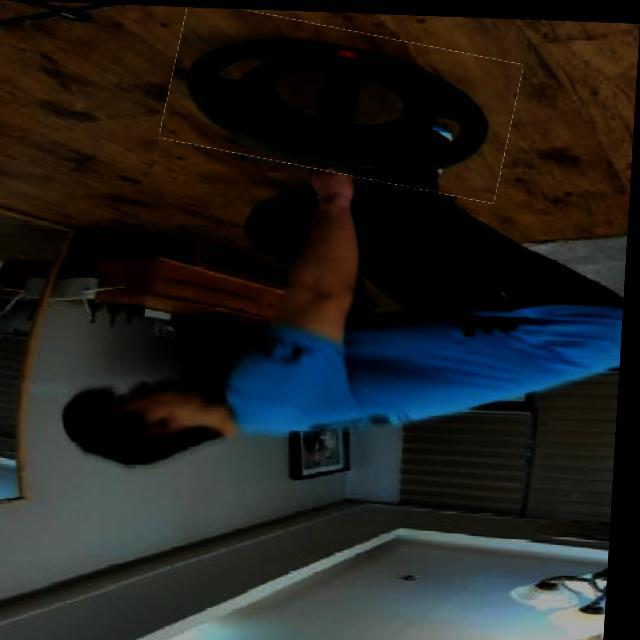barbell: (164, 11, 523, 188)
